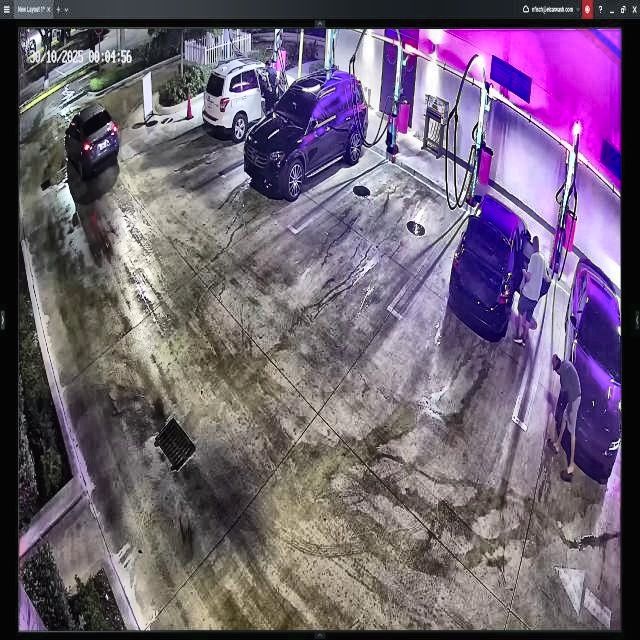Car: (246, 69, 368, 197), (448, 196, 548, 338)
